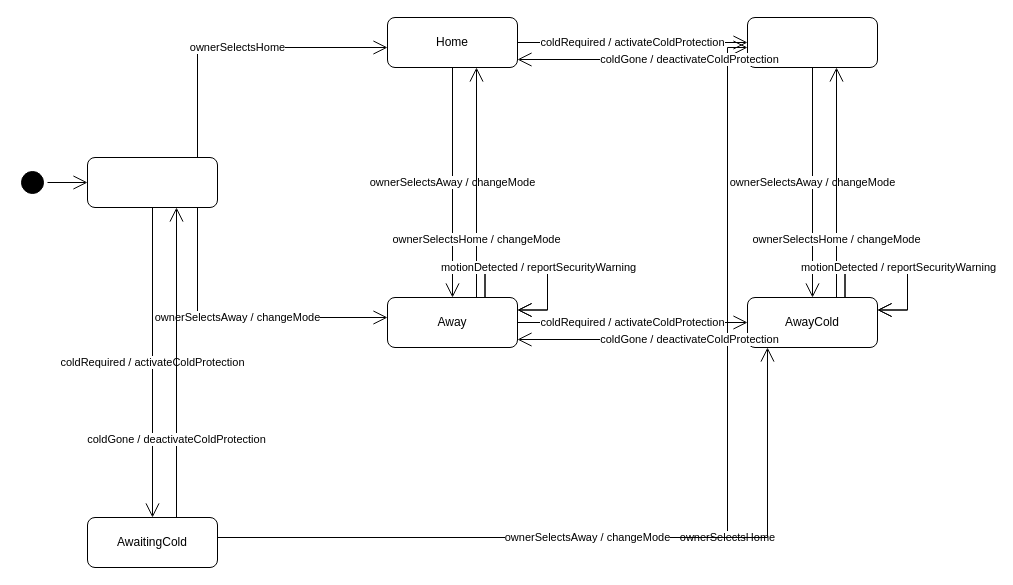
Some shapes in this 1013 by 585 pixel diagram are drawn without their labels. Here are the shapes that lost their labels. From the top down, the centre of each, then its label:
At point (812, 42): "HomeCold".
At point (152, 182): "Awaiting".
